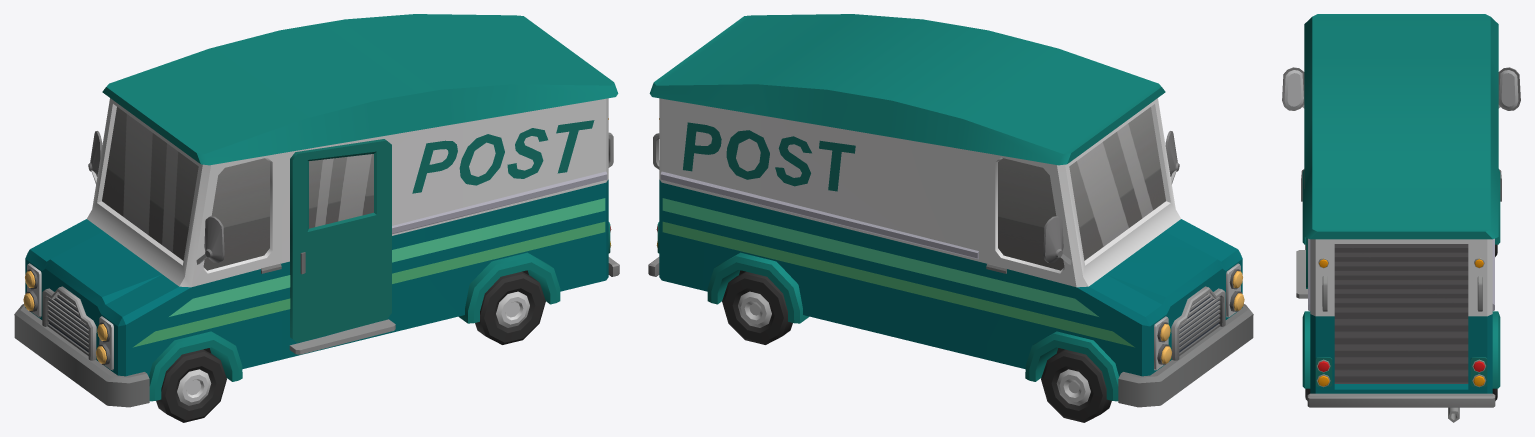
Rendered from PostCar_2_B.gltf.
3 views of the same model, side by side, from view 1: azimuth 30°, elevation 25°; view 2: azimuth 150°, elevation 25°; view 3: azimuth 270°, elevation 25° (orthographic). The views are drawn at different scales.
Visible parts, largest first — view 1: PostCar_2_B, FL, RL; view 2: PostCar_2_B, FR, RR; view 3: PostCar_2_B.
Part boxes in pixels (x1,y1,x2,y2): PostCar_2_B: (14, 14, 619, 407); FL: (156, 349, 226, 422); RL: (475, 271, 545, 344); PostCar_2_B: (648, 14, 1253, 407); FR: (1041, 349, 1111, 422); RR: (722, 271, 792, 344); PostCar_2_B: (1282, 14, 1520, 422).
Bounding box in the file's own units: 4.14 × 2.11 × 1.8.
5 materials, 5 textured.
